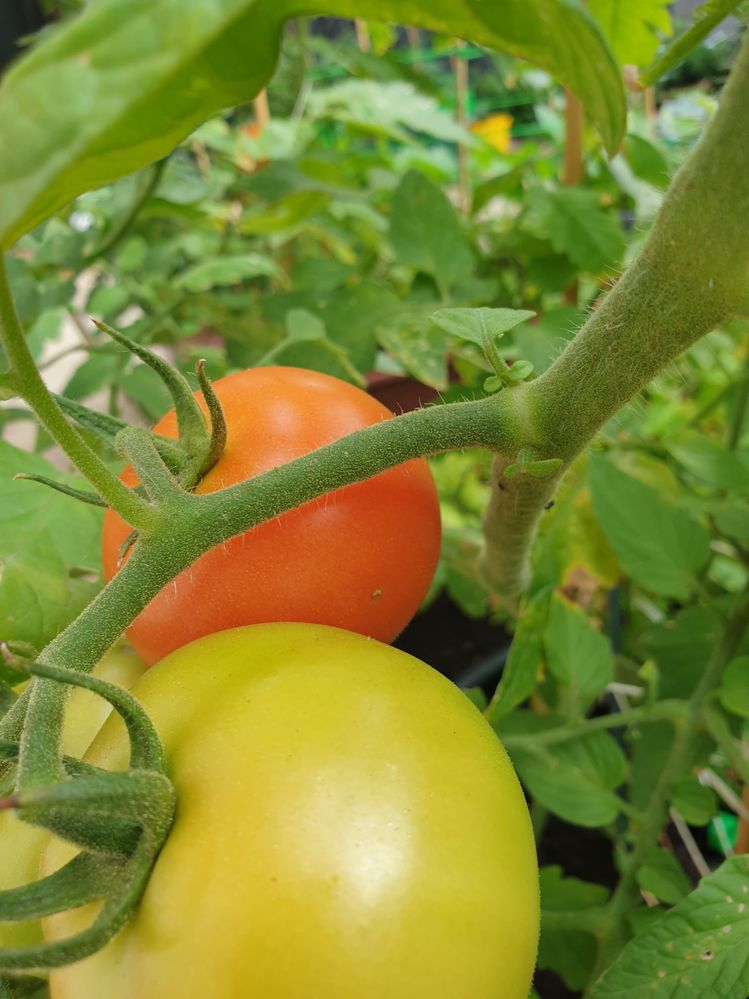tomato: (55, 626, 571, 999)
